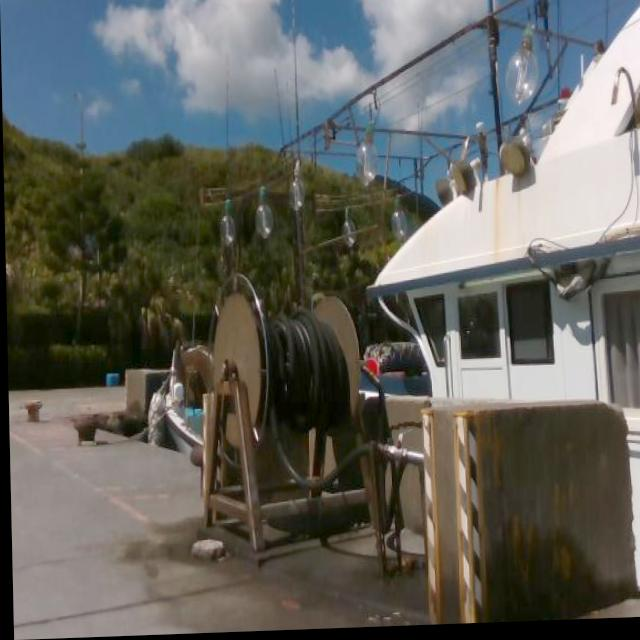pollute: (103, 372, 120, 391)
